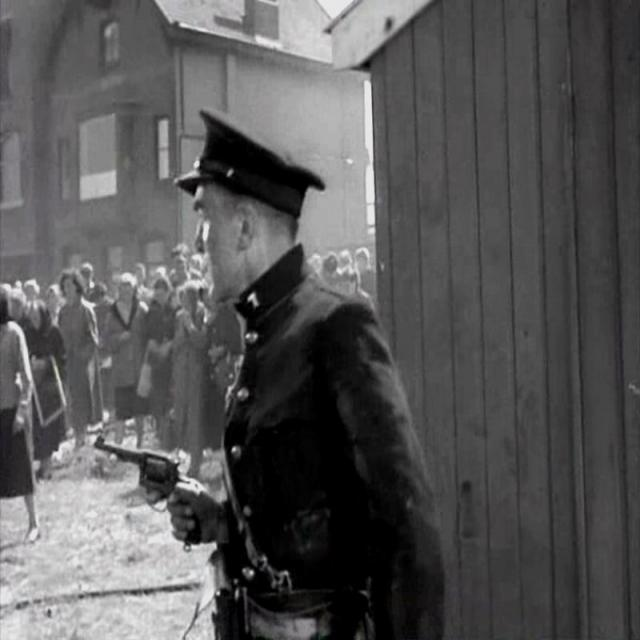gun-knife-thesis - v11 Yolov5 augmented: (82, 424, 199, 548)
